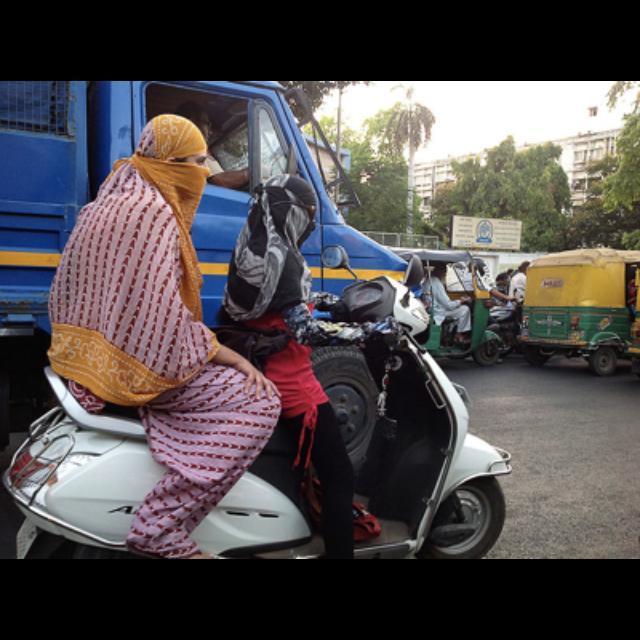Without Helmet: (136, 110, 220, 200), (250, 167, 326, 239)
